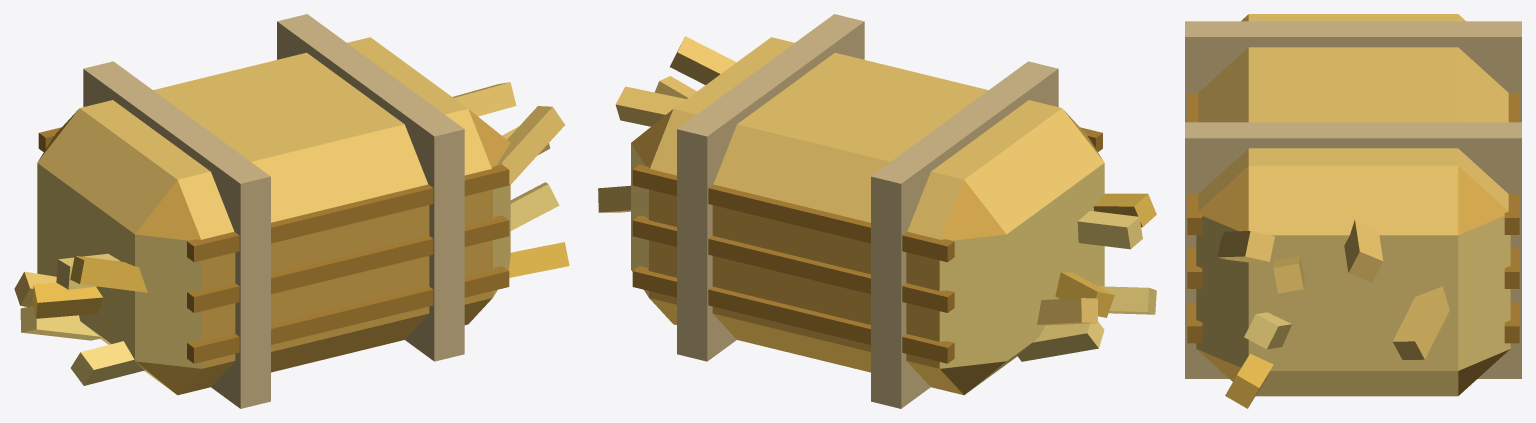
The model's file is Res_Straw.fbx.
3 views of the same model, side by side, from view 1: azimuth 30°, elevation 25°; view 2: azimuth 150°, elevation 25°; view 3: azimuth 270°, elevation 25° (orthographic). The views are drawn at different scales.
Visible parts, largest first — view 1: Res_Straw; view 2: Res_Straw; view 3: Res_Straw.
Boxes of the visible parts, x1,y1,x2,y2 form: Res_Straw: [14, 14, 569, 408]; Res_Straw: [598, 14, 1156, 408]; Res_Straw: [1185, 14, 1521, 408].
Bounding box in the file's own units: 0.7987 × 0.355 × 0.45.
